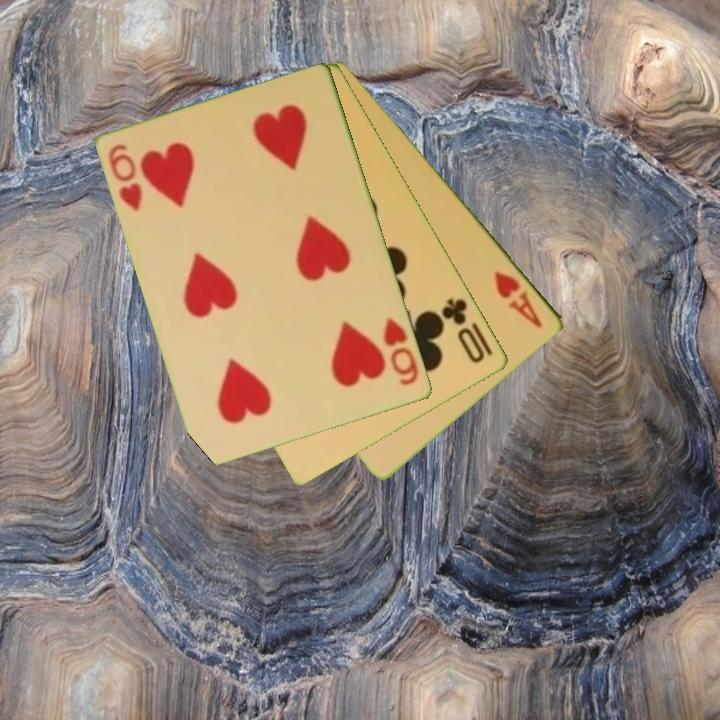10c: (438, 294, 489, 366)
6h: (380, 314, 422, 389), (105, 141, 146, 215)
Ah: (491, 267, 547, 331)
